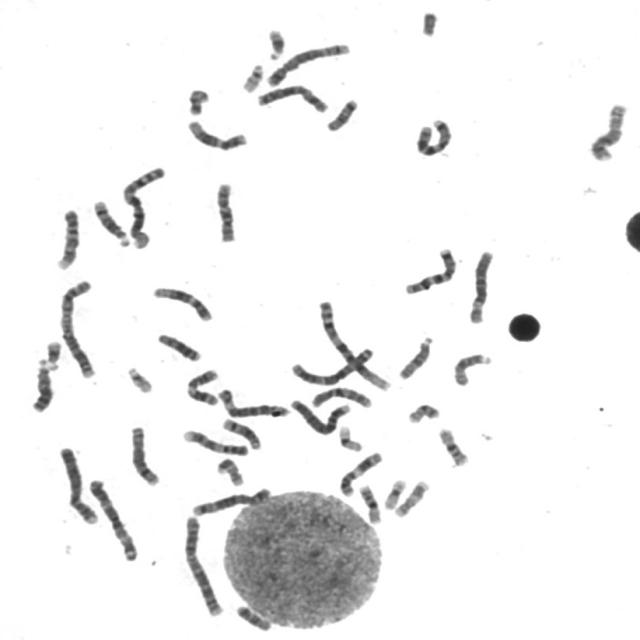A1: (314, 295, 394, 393), (117, 161, 169, 250)
A2: (180, 511, 226, 617), (56, 275, 100, 379)
A3: (84, 474, 141, 562), (288, 343, 376, 386)
B4: (56, 442, 100, 526), (286, 395, 353, 436)
B5: (263, 38, 353, 88), (189, 484, 274, 517)
C10: (212, 177, 240, 244), (307, 383, 374, 409)
C11: (336, 448, 385, 497), (182, 366, 222, 406)
C12: (150, 282, 216, 322), (184, 116, 250, 152)
C6: (208, 382, 296, 425), (465, 246, 497, 325)
C7: (400, 244, 460, 296), (412, 115, 455, 157)
C8: (586, 99, 630, 163), (126, 422, 162, 488)
C9: (180, 426, 251, 456), (52, 205, 83, 271)
D13: (153, 329, 204, 363), (28, 356, 56, 414)
D14: (90, 195, 132, 247), (219, 415, 264, 451)
D15: (395, 332, 436, 381), (450, 350, 494, 388)
E16: (435, 423, 472, 468), (356, 481, 384, 525)
E17: (392, 476, 432, 518), (214, 454, 246, 487)
E18: (323, 94, 361, 133), (232, 601, 274, 632)
F19: (380, 475, 409, 510), (335, 422, 366, 452)
F20: (404, 399, 442, 424), (184, 84, 212, 117)
G21: (263, 24, 288, 62), (41, 336, 64, 371)
G22: (123, 362, 155, 394), (238, 60, 267, 93)
X: (252, 80, 331, 114)
Y: (418, 6, 440, 38)
